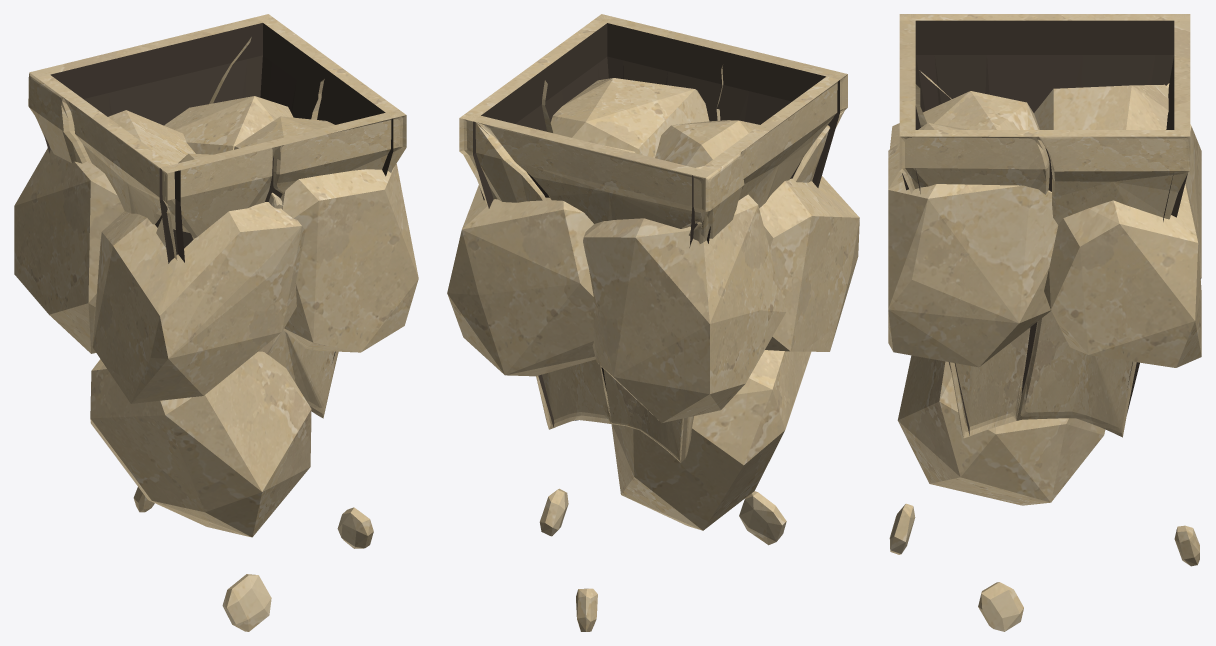
The model's file is ground_bottom_island_09.glb.
3 renders of one model, left to right at view 1: azimuth 30°, elevation 25°; view 2: azimuth 150°, elevation 25°; view 3: azimuth 270°, elevation 25°, orthographic. The views are drawn at different scales.
Visible parts, largest first — view 1: GroundBottomIsland09_Body; view 2: GroundBottomIsland09_Body; view 3: GroundBottomIsland09_Body.
Part boxes in pixels (<box>): GroundBottomIsland09_Body: <box>14,14,418,631</box>; GroundBottomIsland09_Body: <box>447,14,859,631</box>; GroundBottomIsland09_Body: <box>888,14,1201,631</box>.
Bounding box in the file's own units: 1.08 × 1.9 × 1.08.
14 materials, 13 textured.
